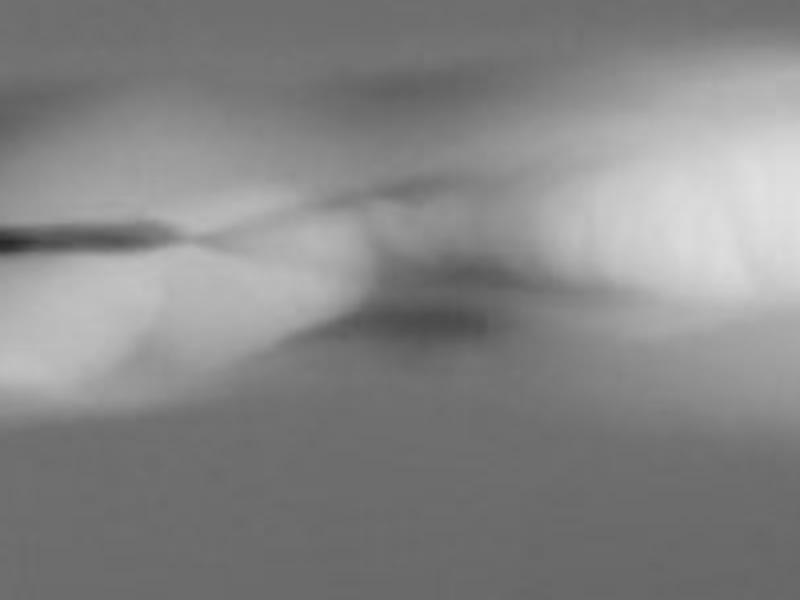defect: (1, 226, 163, 247)
